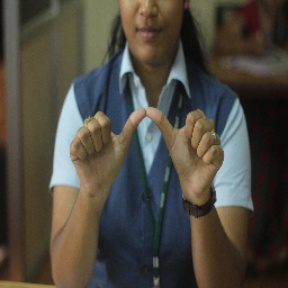A: (67, 104, 226, 178)
